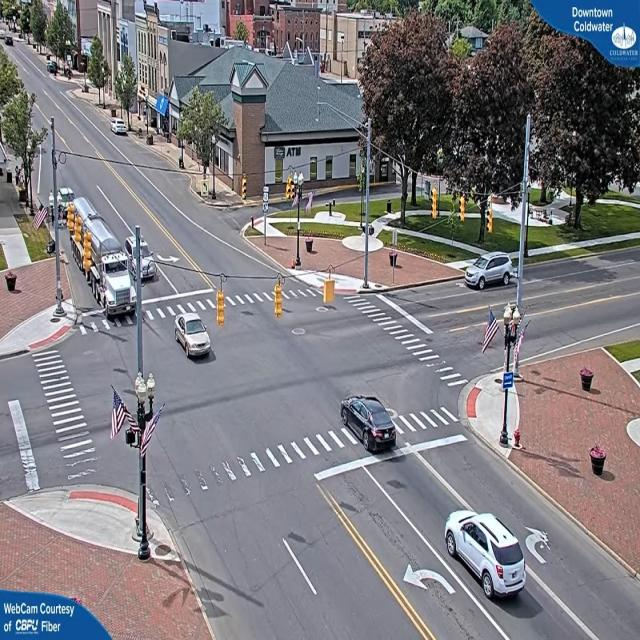car: (446, 511, 528, 601), (339, 396, 398, 454), (466, 252, 518, 291), (174, 310, 214, 360), (126, 233, 158, 282), (112, 122, 130, 138), (2, 37, 13, 47), (4, 35, 14, 45)
truck: (77, 219, 144, 322)
